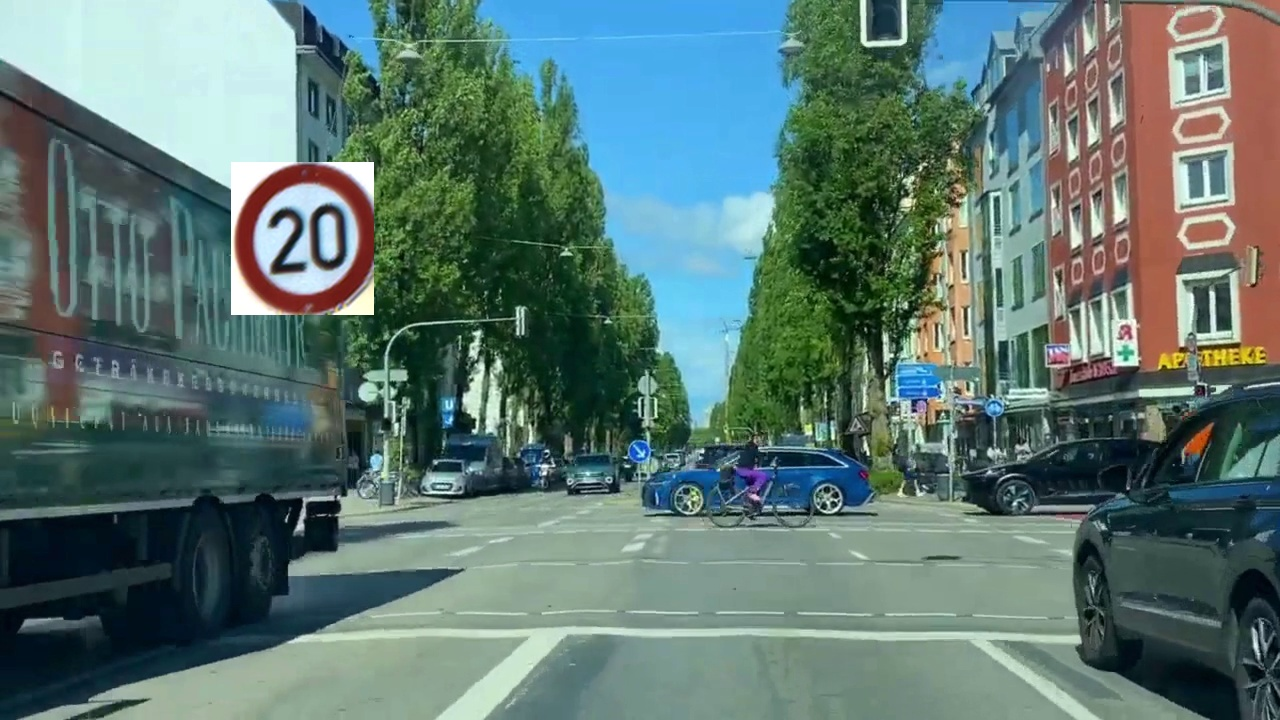Speed 20: (231, 162, 374, 315)
